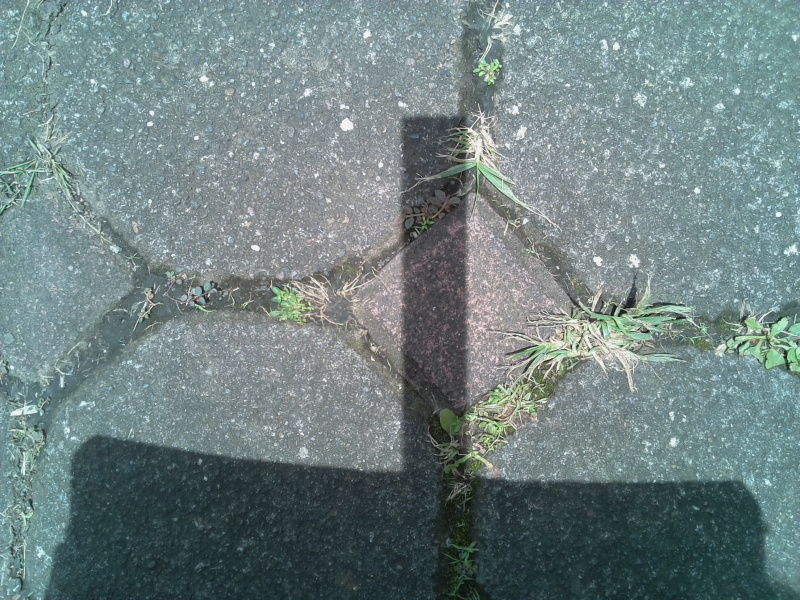Weed: (434, 380, 535, 496), (525, 299, 674, 372), (436, 125, 526, 198), (269, 270, 356, 333), (6, 133, 74, 204), (732, 316, 800, 376), (8, 399, 51, 478), (443, 542, 489, 597), (474, 53, 512, 91)
